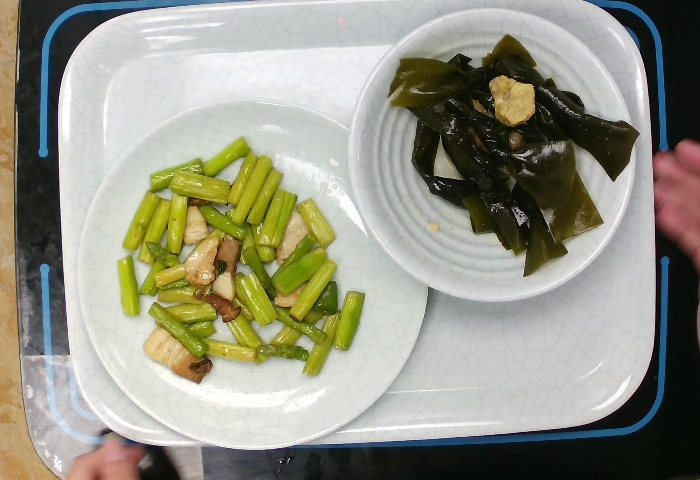JYsf-Da_Yuan_Pan: (71, 93, 431, 451)
JYsf-Xiao_Tang_Wan: (345, 3, 642, 308)
